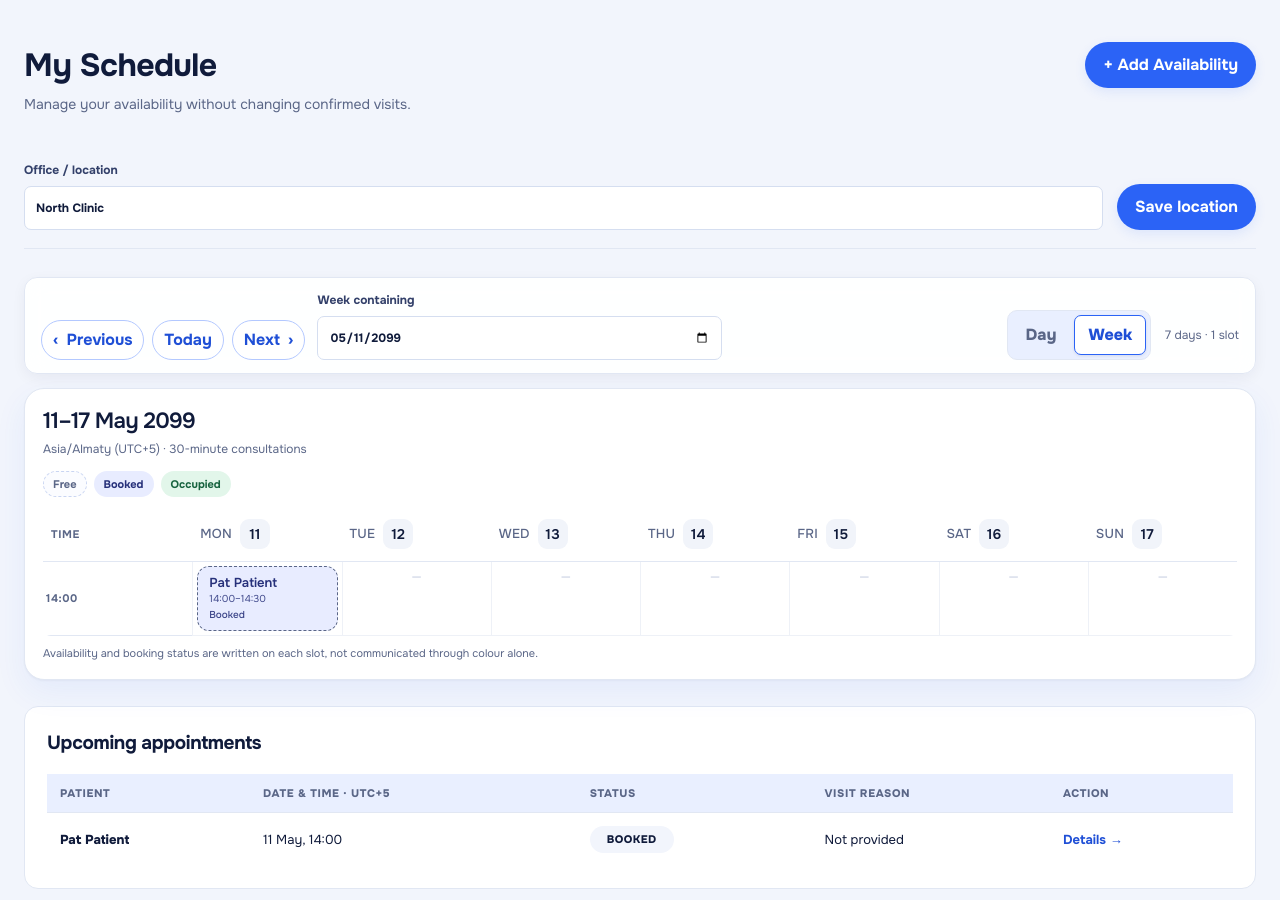
Test case: doctor weekly schedule setup › requires explicit confirmation before releasing a booked appointment
The image size is (1280, 900).
Click the button "Pat Patient 14:00–14:30 Booked" at (267,599), box [197,566,338,631]
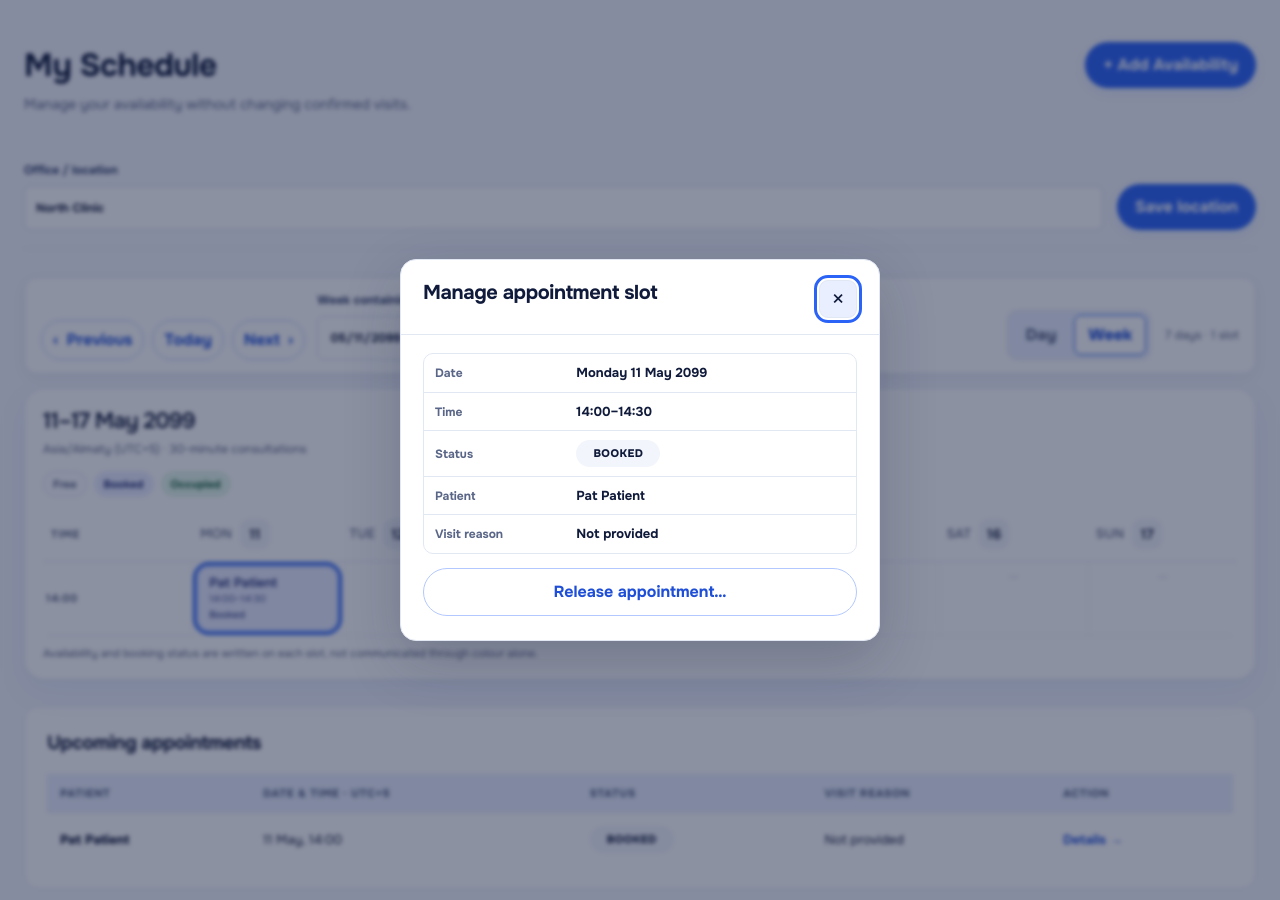
Click the button "Release appointment…" at (640,592), box [423,568,857,616]
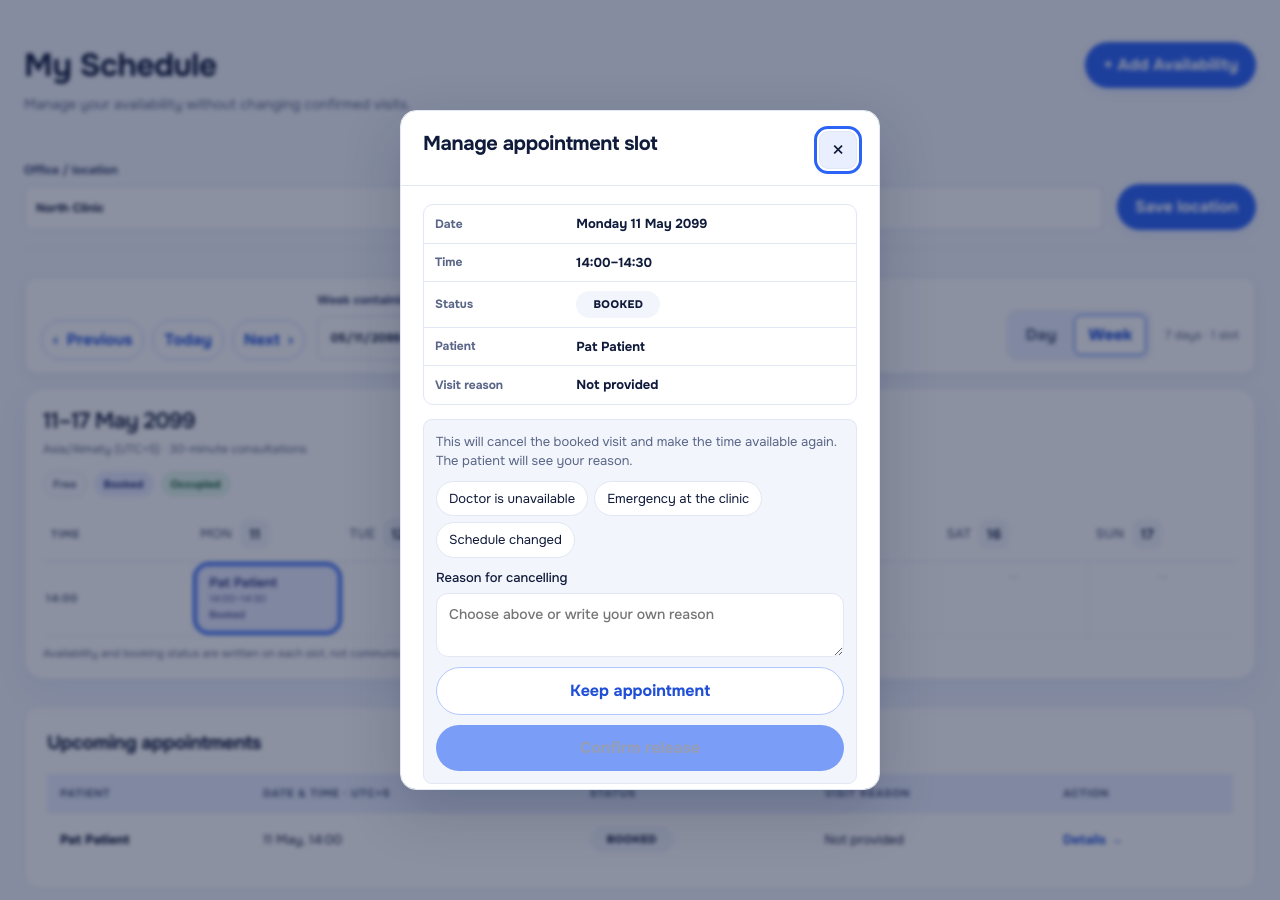
Expected: the button "Confirm release" is disabled, [436,725,844,771]
Click the button "Doctor is unavailable" at (512,498), box [436,480,588,516]
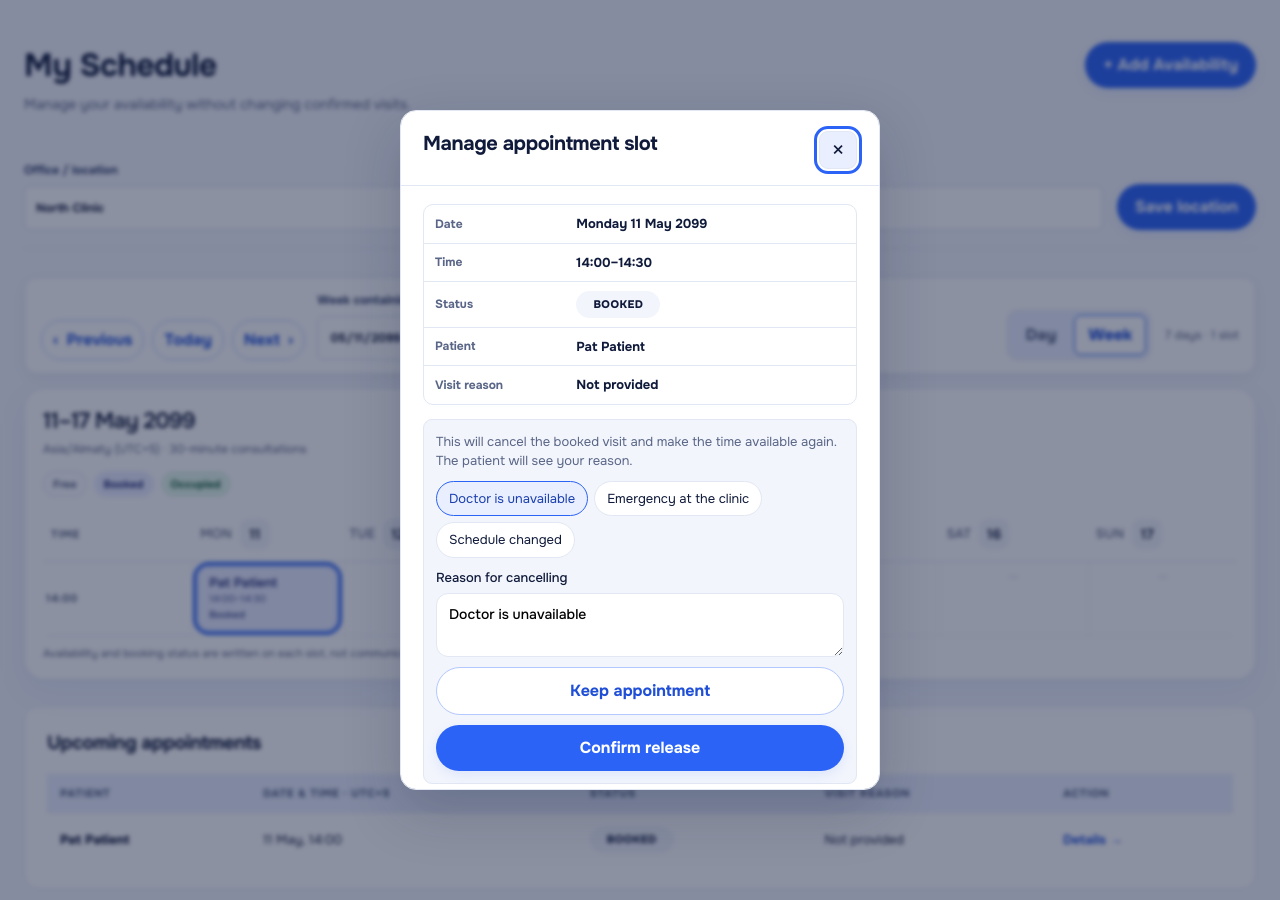
Click the button "Confirm release" at (640,748), box [436,725,844,771]
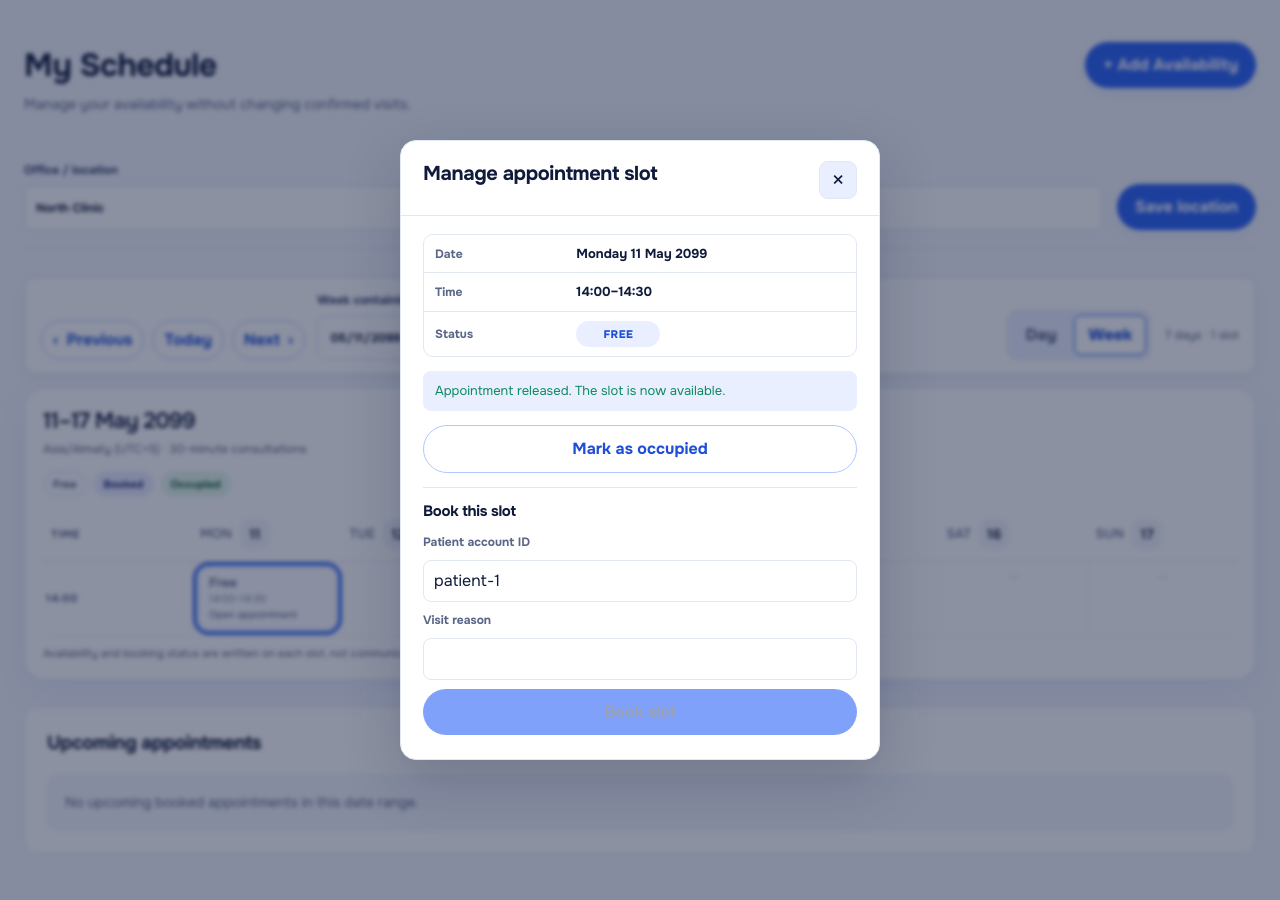
Expected: the text "Appointment released. The slot is now available." is shown, [423,371,857,411]
